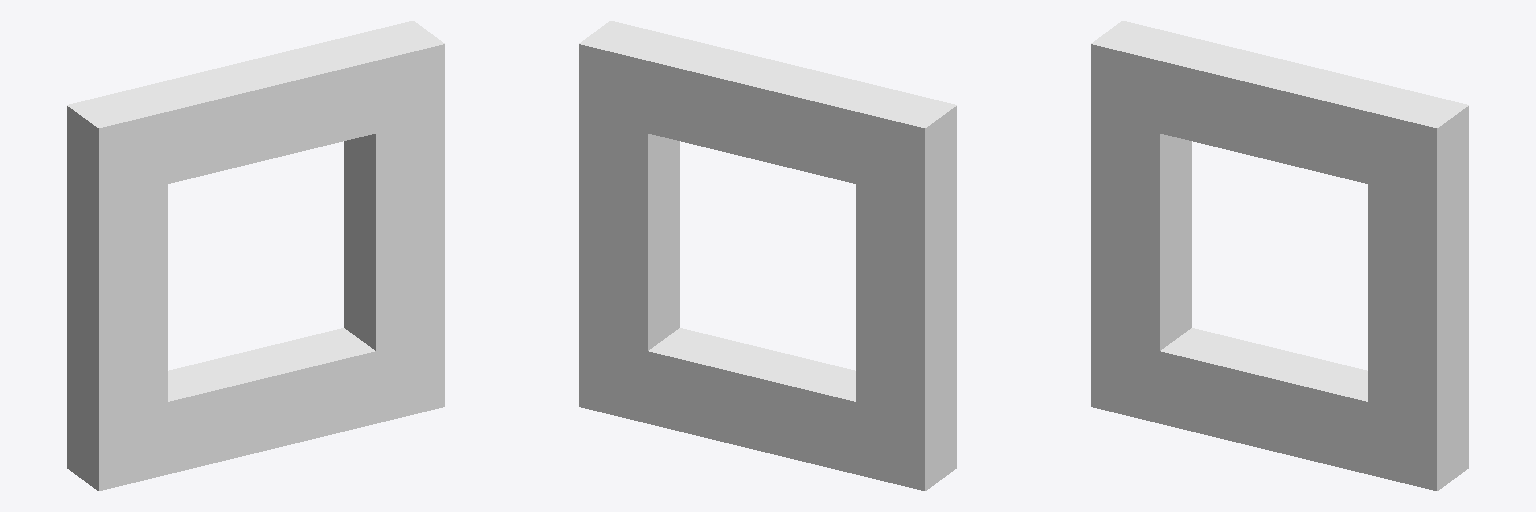
URDF robot description (gates):
<?xml version="1.0" ?>
<robot name="gates">
  <link name="baseLink">
    <contact>
      <lateral_friction value="1.0"/>
      <rolling_friction value="0.0"/>
      <contact_cfm value="0.0"/>
      <contact_erp value="1.0"/>
    </contact>
    <inertial>
      <origin rpy="0 0 0" xyz="0 0 0"/>
       <mass value="1.0"/>
       <inertia ixx="1" ixy="0" ixz="0" iyy="1" iyz="0" izz="1"/>
    </inertial>
    <visual>
      <origin rpy="0 0 0" xyz="0 0 0"/>
      <geometry>
        <mesh filename="gates.obj" scale="1e-3 1e-3 1e-3"/>
      </geometry>
       <material name="white">
        <color rgba="1 1 1 1"/>
      </material>
    </visual>
    <collision>
      <origin rpy="0 0 0" xyz="0 0 0"/>
      <geometry>
        <mesh filename="gates.obj" scale="1e-3 1e-3 1e-3"/>
      </geometry>
    </collision>
  </link>
</robot>

--- What the picture shows (computed from the rendered views, not written in the file) ---
Views: 3 orthographic renders of the robot side by side, from view 1: azimuth 30°, elevation 25°; view 2: azimuth 150°, elevation 25°; view 3: azimuth 330°, elevation 25°.
Model gates with 1 links and 0 joints (none), rooted at baseLink, posed every joint at zero.
Links seen in each view (by area): view 1: baseLink; view 2: baseLink; view 3: baseLink.
Boxes of the visible links, left/top/right/bottom form: baseLink: left=67, top=21, right=444, bottom=490; baseLink: left=579, top=21, right=956, bottom=490; baseLink: left=1091, top=21, right=1468, bottom=490.
Bounding box of the posed robot: 1.25 × 0.2 × 1.25 m (x, y, z).
Meshes: 1 distinct files referenced, 1 mesh visuals loaded (1 OBJ).
